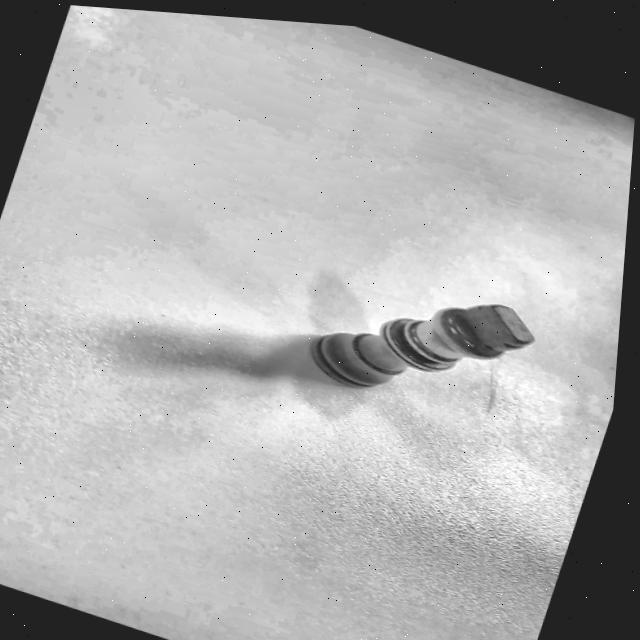black-king: (284, 240, 554, 445)
